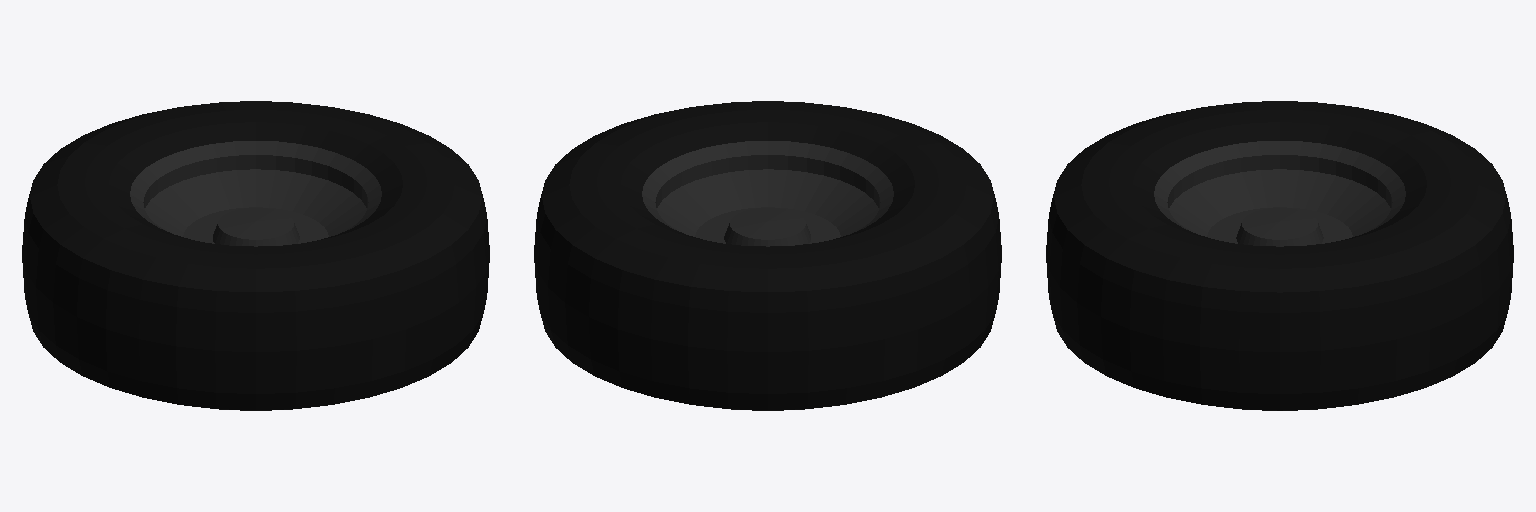
The model's file is kolo.obj.
3 views of the same model, side by side, from view 1: azimuth 30°, elevation 25°; view 2: azimuth 150°, elevation 25°; view 3: azimuth 270°, elevation 25° (orthographic).
Parts seen in each view (by area): view 1: Toyota Hilux_Toyota Hilux.015, Toyota Hilux.014_Toyota Hilux.014; view 2: Toyota Hilux_Toyota Hilux.015, Toyota Hilux.014_Toyota Hilux.014; view 3: Toyota Hilux_Toyota Hilux.015, Toyota Hilux.014_Toyota Hilux.014.
Part boxes in pixels (x1,y1,x2,y2): Toyota Hilux_Toyota Hilux.015: (22, 101, 489, 410); Toyota Hilux.014_Toyota Hilux.014: (130, 141, 381, 246); Toyota Hilux_Toyota Hilux.015: (534, 101, 1001, 410); Toyota Hilux.014_Toyota Hilux.014: (642, 141, 893, 246); Toyota Hilux_Toyota Hilux.015: (1046, 101, 1513, 410); Toyota Hilux.014_Toyota Hilux.014: (1154, 141, 1405, 246).
Size of the model in its own units: 0.7461 by 0.2598 by 0.7461.